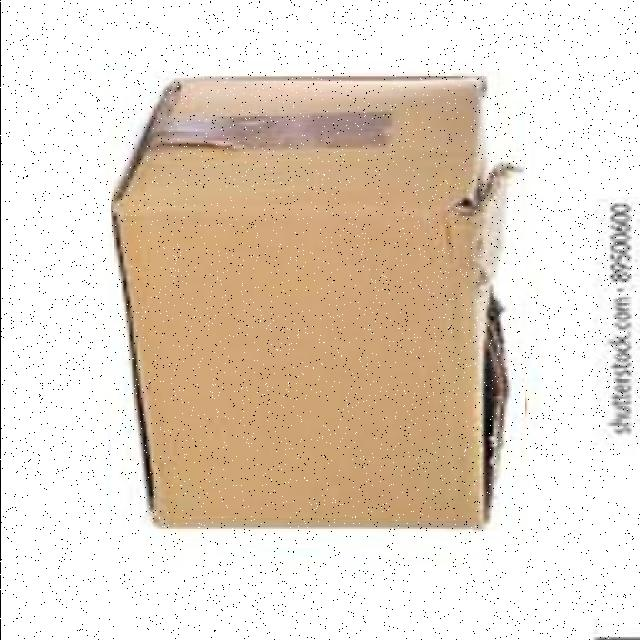defect: (110, 70, 524, 544)
